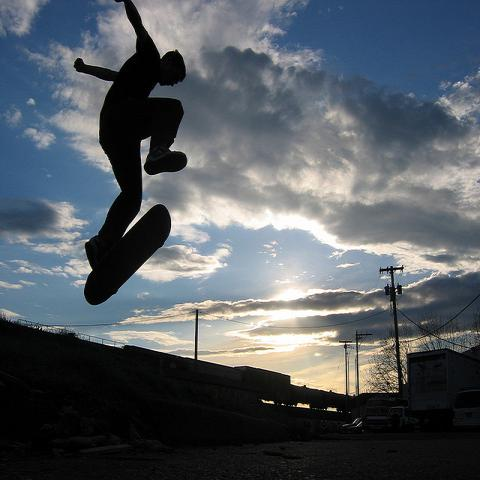car: (384, 406, 416, 432), (350, 421, 362, 433)
truck: (406, 348, 480, 433)
